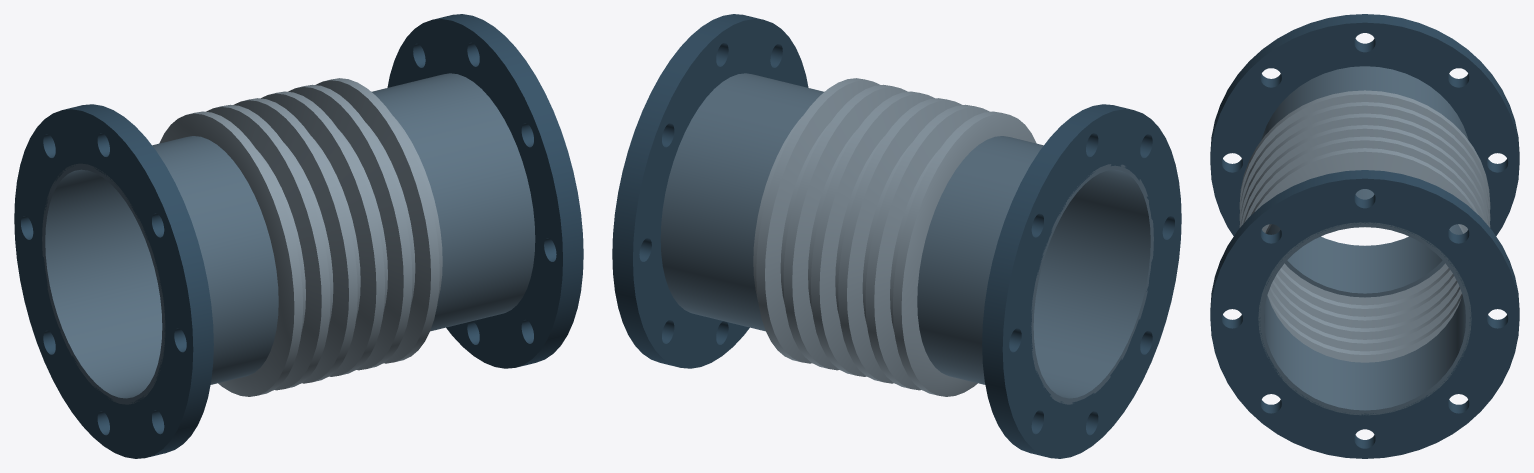
The model's file is flan-dn200-L400-D219-f-o335.glb.
3 views of the same model, side by side, from view 1: azimuth 30°, elevation 25°; view 2: azimuth 150°, elevation 25°; view 3: azimuth 270°, elevation 25° (orthographic). The views are drawn at different scales.
Visible parts, largest first — view 1: prokladka_silfon_1, patrubok_1, homut_flanec_1, homut_flanec_2, patrubok_2; view 2: prokladka_silfon_1, patrubok_1, homut_flanec_1, homut_flanec_2, patrubok_2; view 3: homut_flanec_2, prokladka_silfon_1, homut_flanec_1, patrubok_2, patrubok_1.
Part boxes in pixels (box(x1,y1,x2,y2)): prokladka_silfon_1: box(159, 78, 442, 396); patrubok_1: box(42, 136, 278, 404); homut_flanec_1: box(14, 104, 213, 458); homut_flanec_2: box(387, 14, 583, 368); patrubok_2: box(371, 73, 535, 331); prokladka_silfon_1: box(753, 78, 1036, 396); patrubok_1: box(917, 136, 1153, 404); homut_flanec_1: box(982, 104, 1181, 458); homut_flanec_2: box(612, 14, 808, 368); patrubok_2: box(660, 73, 824, 331); homut_flanec_2: box(1210, 170, 1519, 458); prokladka_silfon_1: box(1239, 90, 1490, 362); homut_flanec_1: box(1210, 14, 1519, 235); patrubok_2: box(1258, 189, 1471, 415); patrubok_1: box(1261, 66, 1468, 297).
Bounding box in the file's own units: 400 × 318 × 318.
